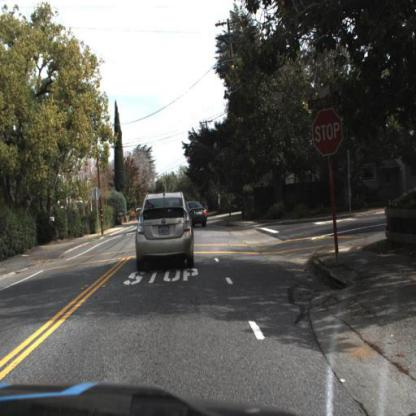car: (133, 188, 193, 271)
